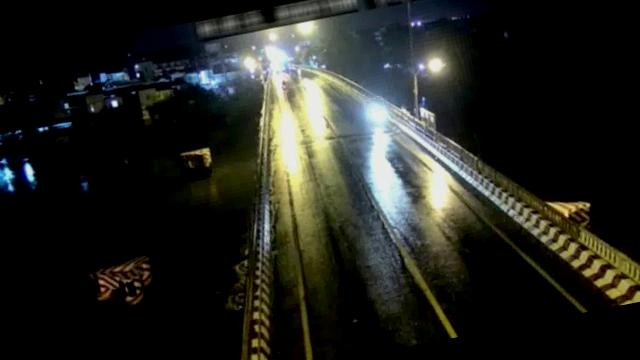Bike: (362, 95, 389, 125)
